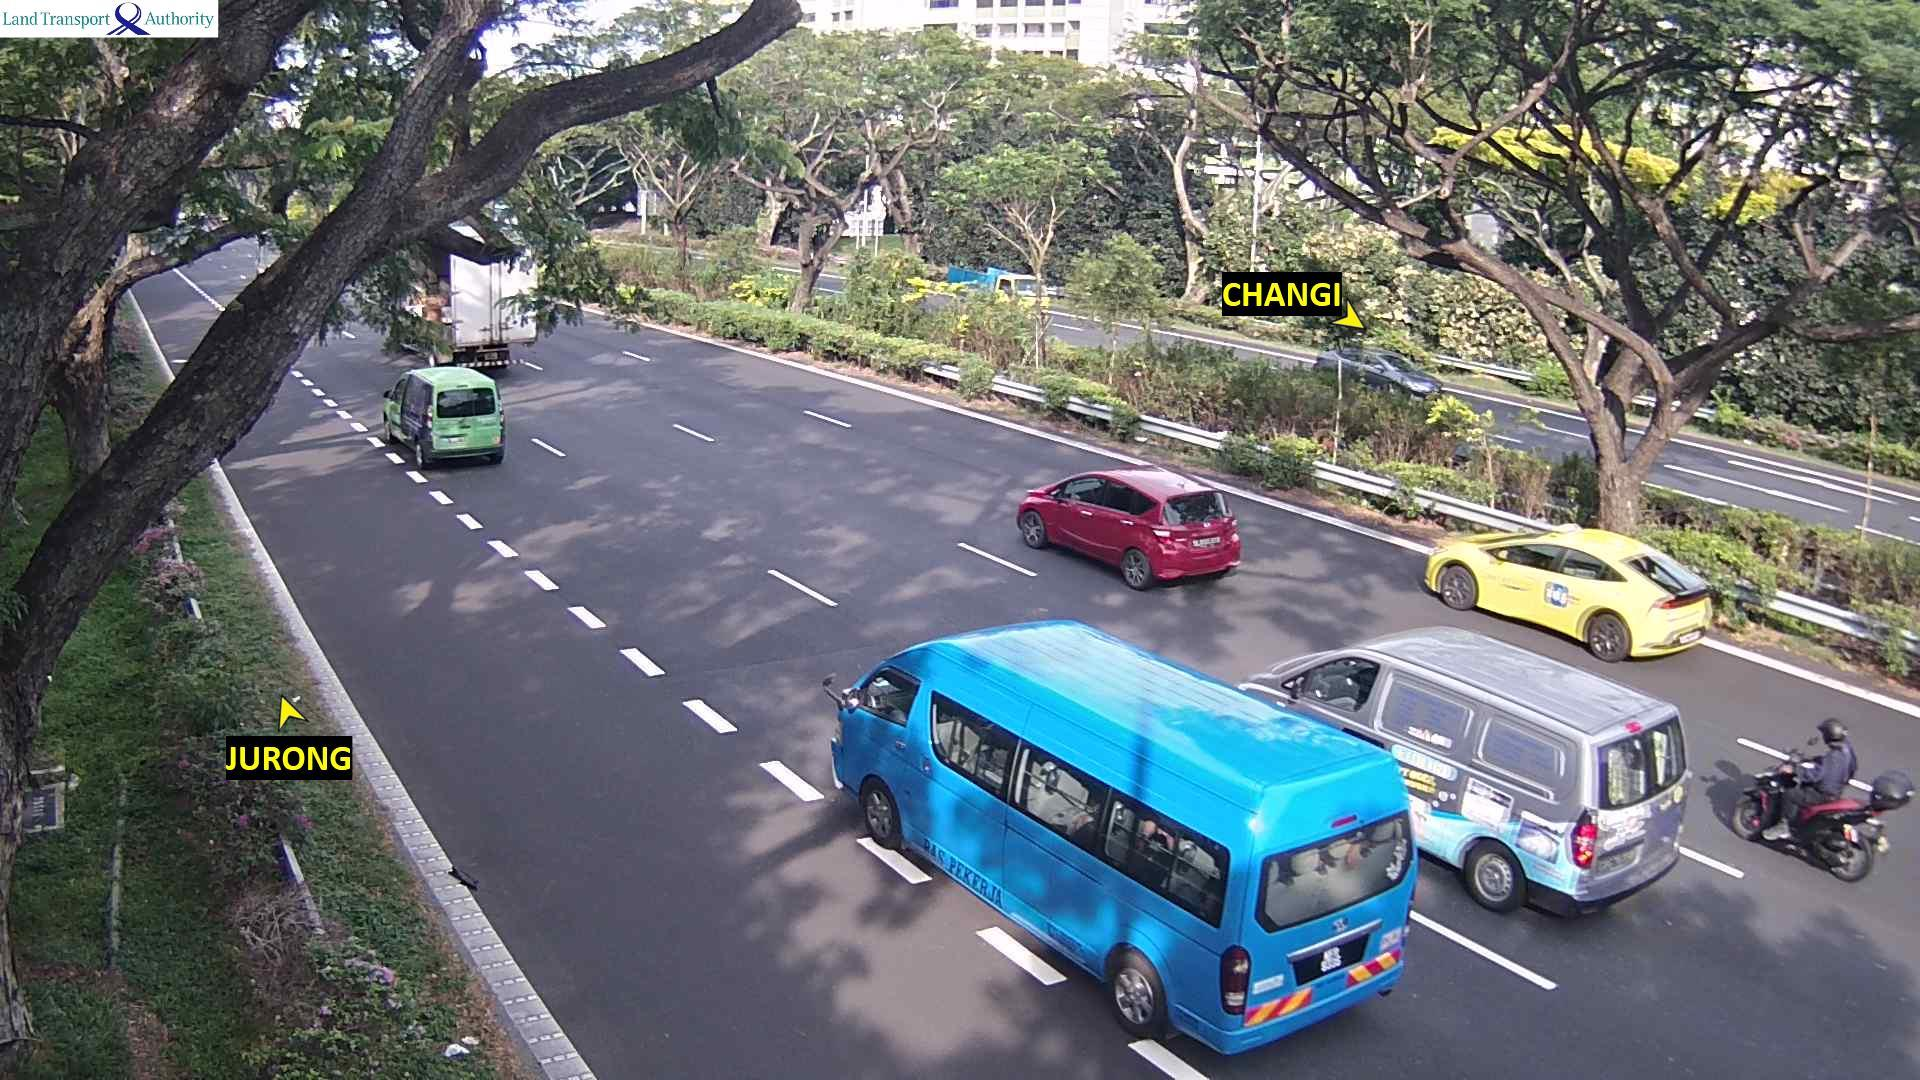incoming: (993, 273, 1052, 316)
